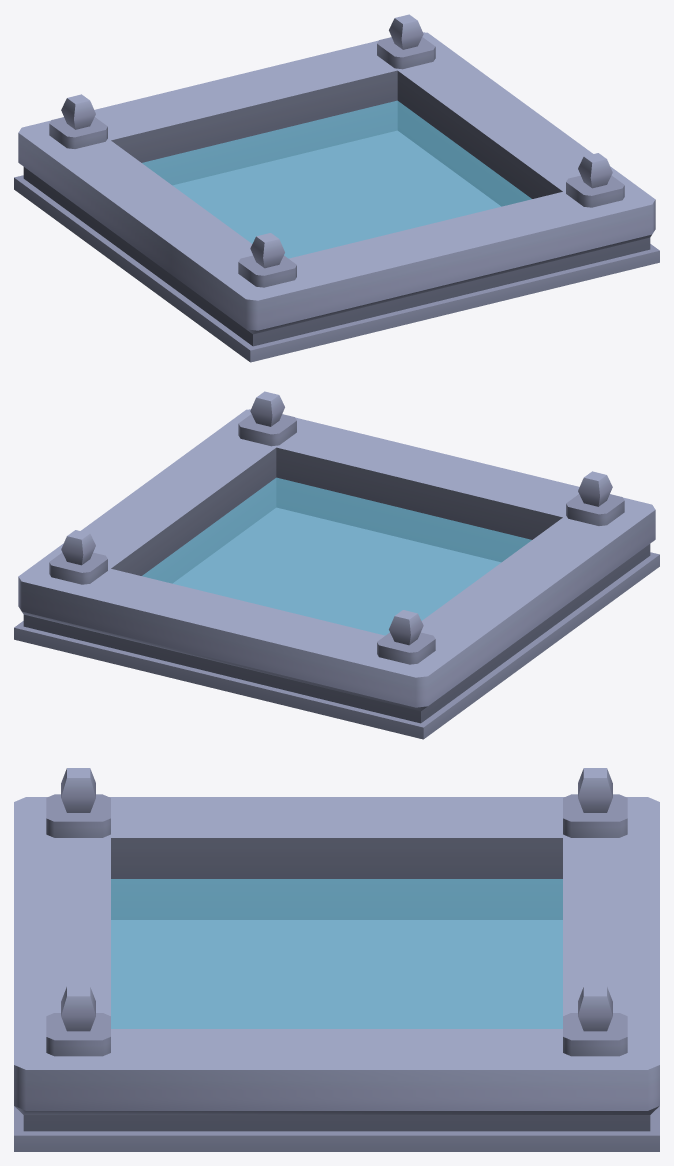
Rendered from fountain-square.glb.
3 renders of one model, top to bottom at view 1: azimuth 30°, elevation 25°; view 2: azimuth 150°, elevation 25°; view 3: azimuth 270°, elevation 25°, orthographic. The views are drawn at different scales.
Parts seen in each view (by area): view 1: fountain-square, (%ignore); view 2: fountain-square, (%ignore); view 3: fountain-square, (%ignore).
Boxes of the visible parts, x1,y1,x2,y2 form: fountain-square: [14, 14, 659, 362]; (%ignore): [142, 100, 531, 258]; fountain-square: [14, 391, 659, 739]; (%ignore): [142, 477, 531, 635]; fountain-square: [14, 768, 659, 1151]; (%ignore): [111, 879, 562, 1028].
Size of the model in its own units: 2 by 0.4551 by 2.
Materials: 2 (1 with a texture image).
